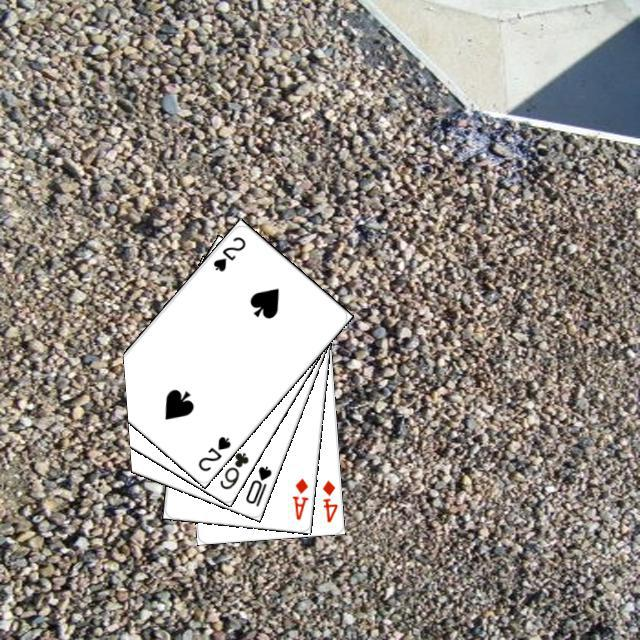10s: (240, 461, 273, 508)
2s: (193, 431, 233, 473), (208, 231, 247, 274)
4d: (318, 475, 339, 524)
6c: (214, 447, 250, 491)
Ad: (287, 473, 310, 522)
